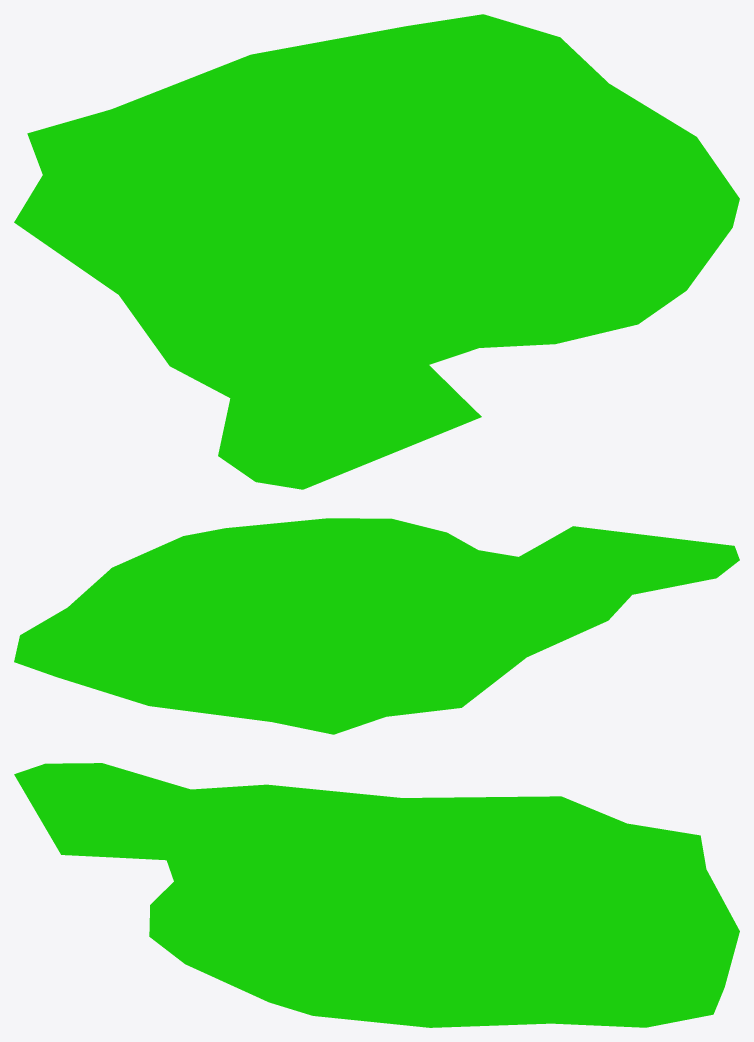
The model's file is IslandMoon_BuildArea_1.fbx.
3 views of the same model, one above another, from view 1: azimuth 30°, elevation 25°; view 2: azimuth 150°, elevation 25°; view 3: azimuth 270°, elevation 25° (orthographic). The views are drawn at different scales.
Parts seen in each view (by area): view 1: BuildArea_1; view 2: BuildArea_1; view 3: BuildArea_1.
Part boxes in pixels (<box>): BuildArea_1: <box>14,14,739,489</box>; BuildArea_1: <box>14,518,739,734</box>; BuildArea_1: <box>14,763,739,1027</box>.
Bounding box in the file's own units: 2436 × 0.00046 × 2822.
